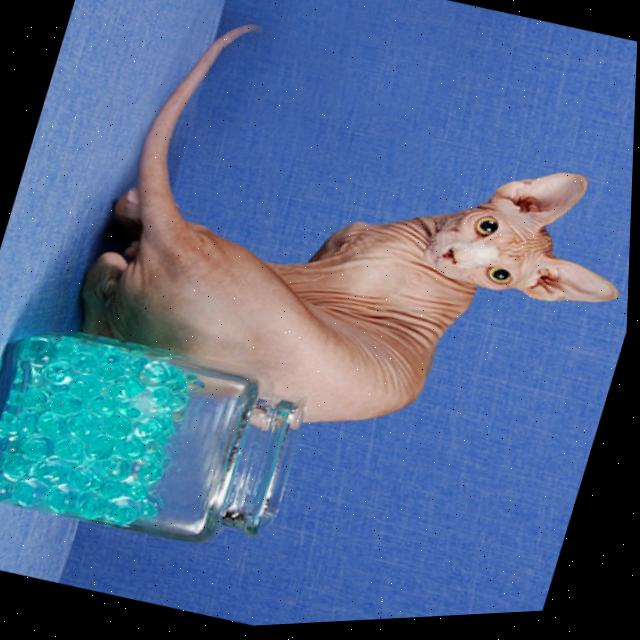Sphynx: (46, 0, 640, 520)
